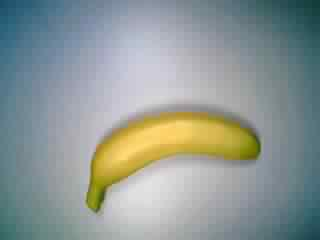banana: (84, 107, 265, 214)
